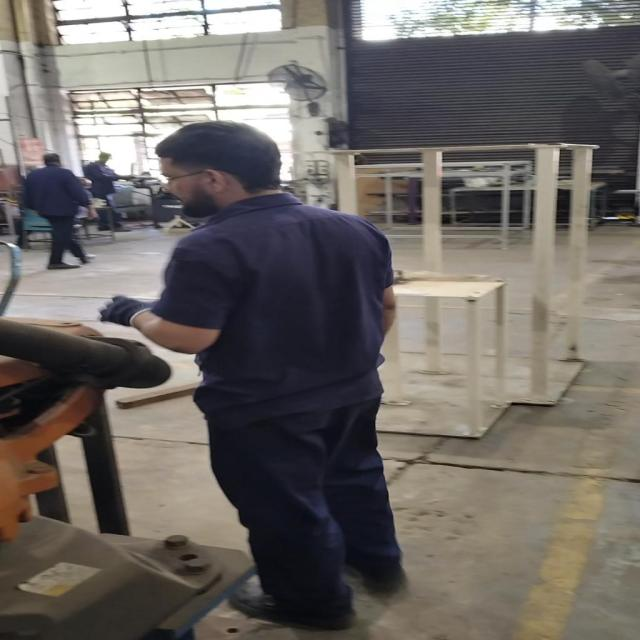Gloves-Detection: (81, 280, 150, 333)
